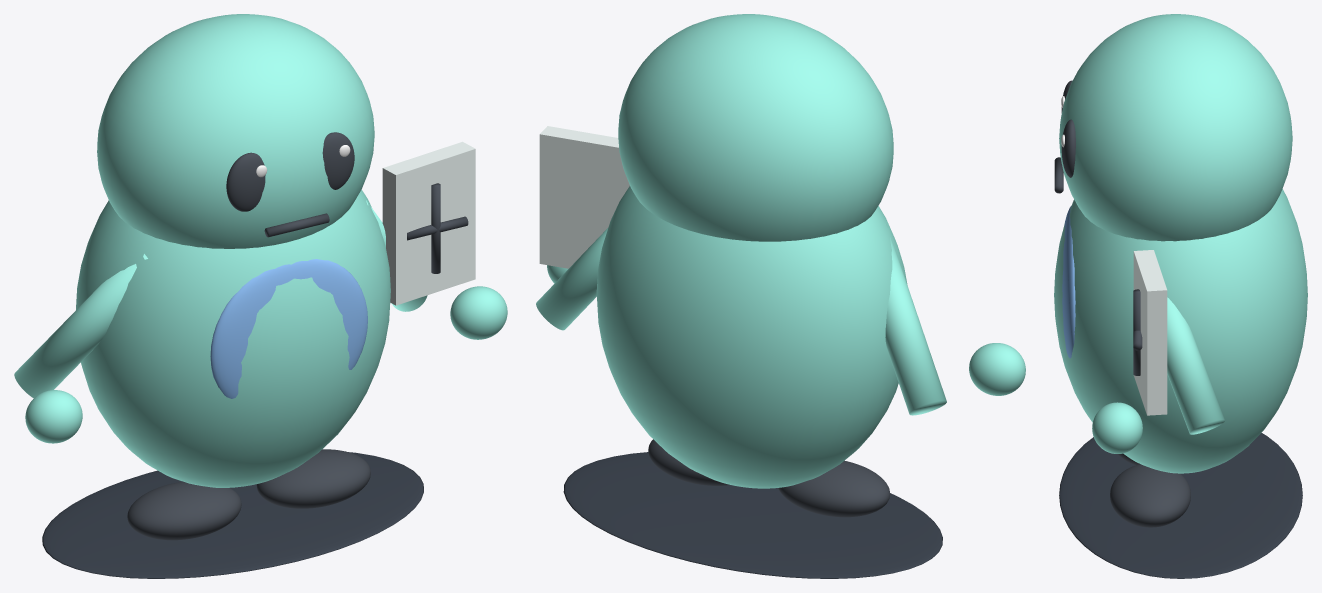
File: aegis-guardian.glb
3 renders of one model, left to right at view 1: azimuth 30°, elevation 25°; view 2: azimuth 150°, elevation 25°; view 3: azimuth 270°, elevation 25°, orthographic. The views are drawn at different scales.
Visible parts, largest first — view 1: body, head, floor-shadow, shield, belly-glow, arm-left, foot-left, foot-right, hand-right, hand-left, eye-left, eye-right (+2 smaller); view 2: body, head, floor-shadow, shield, arm-left, foot-left, arm-right, hand-left, foot-right; view 3: head, body, floor-shadow, shield, arm-right, foot-right, hand-right, belly-glow, eye-right, shield-cross-v.
Boxes of the visible parts, x1=… form: body: x1=76, y1=189, x2=390, y2=487; head: x1=97, y1=14, x2=374, y2=248; floor-shadow: x1=42, y1=452, x2=423, y2=578; shield: x1=382, y1=141, x2=475, y2=305; belly-glow: x1=210, y1=259, x2=367, y2=398; arm-left: x1=14, y1=254, x2=147, y2=398; foot-left: x1=127, y1=481, x2=241, y2=540; foot-right: x1=256, y1=449, x2=370, y2=508; hand-right: x1=450, y1=286, x2=507, y2=339; hand-left: x1=25, y1=390, x2=82, y2=443; eye-left: x1=226, y1=152, x2=265, y2=211; eye-right: x1=322, y1=132, x2=354, y2=189; body: x1=596, y1=186, x2=907, y2=488; head: x1=618, y1=14, x2=893, y2=241; floor-shadow: x1=563, y1=452, x2=942, y2=578; shield: x1=539, y1=126, x2=629, y2=268; arm-left: x1=885, y1=224, x2=946, y2=415; foot-left: x1=778, y1=460, x2=890, y2=517; arm-right: x1=536, y1=228, x2=607, y2=330; hand-left: x1=969, y1=343, x2=1025, y2=395; foot-right: x1=648, y1=439, x2=729, y2=485; head: x1=1059, y1=14, x2=1292, y2=241; body: x1=1054, y1=189, x2=1307, y2=473; floor-shadow: x1=1059, y1=433, x2=1302, y2=578; shield: x1=1133, y1=250, x2=1167, y2=415; arm-right: x1=1167, y1=297, x2=1224, y2=434; foot-right: x1=1110, y1=464, x2=1190, y2=527; hand-right: x1=1092, y1=402, x2=1142, y2=453; belly-glow: x1=1062, y1=206, x2=1075, y2=358; eye-right: x1=1061, y1=119, x2=1075, y2=177; shield-cross-v: x1=1133, y1=289, x2=1140, y2=375.
Size of the model in its own units: 2.06 by 2.05 by 1.
